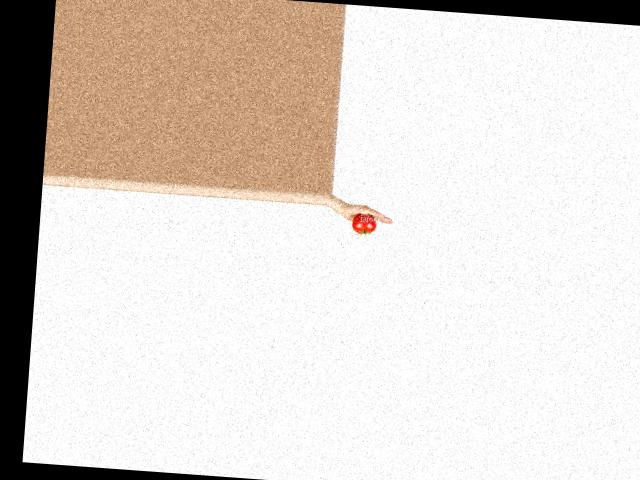tomato: (351, 213, 377, 234)
